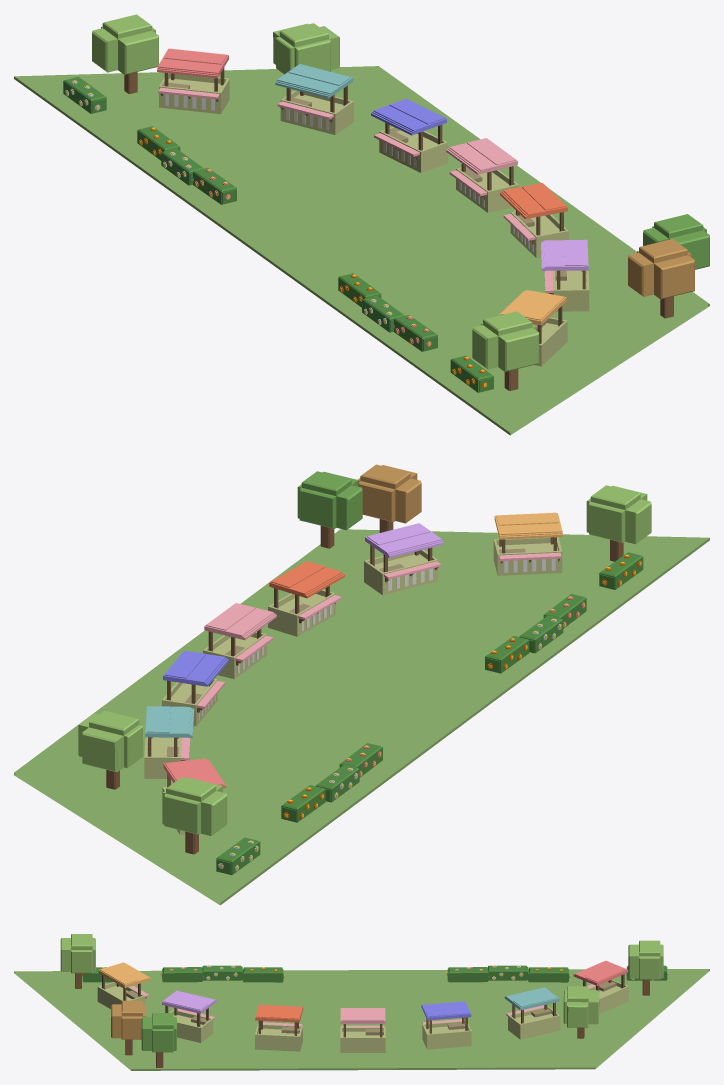
Rendered from yatai2.glb.
3 renders of one model, top to bottom at view 1: azimuth 30°, elevation 25°; view 2: azimuth 150°, elevation 25°; view 3: azimuth 270°, elevation 25°, orthographic. The views are drawn at different scales.
Visible parts, largest first — view 1: 立方体.002, yata2, yata1, yata3, 立方体.005, 立方体.006, 立方体.003, yata4, yata5, yata6, 立方体.131, yata7 (+9 smaller); view 2: 立方体.002, yata6, yata7, yata5, 立方体.131, 立方体.004, 立方体.006, yata4, 立方体.005, 立方体.003, yata3, yata2 (+9 smaller); view 3: 立方体.002, yata2, yata3, yata5, yata4, yata6, yata7, yata1, 立方体.131, 立方体.006, 立方体.004, 立方体.005 (+8 smaller).
Boxes of the visible parts, <box> form: 立方体.002: <box>14,66,709,435</box>; yata2: <box>275,64,353,134</box>; yata1: <box>157,48,229,114</box>; yata3: <box>371,98,447,172</box>; 立方体.005: <box>472,311,539,390</box>; 立方体.006: <box>92,14,158,93</box>; 立方体.003: <box>628,239,694,318</box>; yata4: <box>446,138,518,212</box>; yata5: <box>500,183,568,257</box>; yata6: <box>540,239,589,311</box>; 立方体.131: <box>273,23,339,90</box>; yata7: <box>498,290,567,366</box>; 立方体.002: <box>14,529,709,905</box>; yata6: <box>364,523,443,595</box>; yata7: <box>493,512,562,575</box>; yata5: <box>268,561,344,636</box>; 立方体.131: <box>78,711,143,789</box>; 立方体.004: <box>297,471,362,548</box>; 立方体.006: <box>162,777,227,854</box>; yata4: <box>203,603,276,679</box>; 立方体.005: <box>586,485,651,561</box>; 立方体.003: <box>357,464,421,532</box>; yata3: <box>162,650,228,726</box>; yata2: <box>144,706,194,778</box>; 立方体.002: <box>14,969,709,1070</box>; yata2: <box>504,987,560,1039</box>; yata3: <box>421,1001,471,1049</box>; yata5: <box>255,1004,303,1051</box>; yata4: <box>340,1008,385,1052</box>; yata6: <box>162,990,216,1042</box>; yata7: <box>97,962,151,1008</box>; yata1: <box>573,960,628,1014</box>; 立方体.131: <box>563,986,599,1038</box>; 立方体.006: <box>628,940,663,995</box>; 立方体.004: <box>141,1013,176,1067</box>; 立方体.005: <box>60,934,95,988</box>.
Size of the model in its own units: 30.06 by 6.62 by 84.53.
